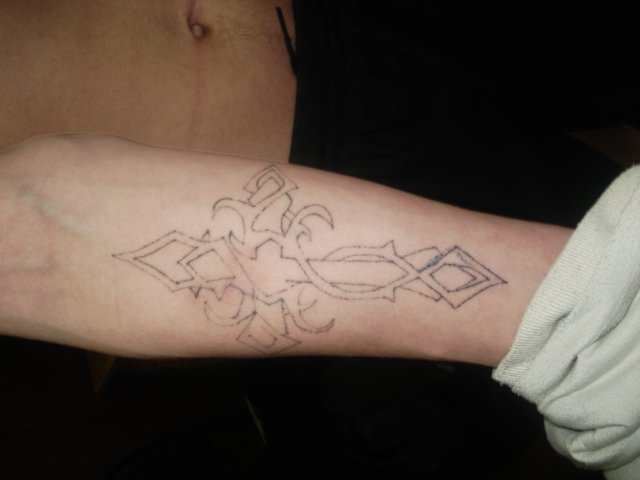tatu9_krest: (91, 159, 519, 351)
